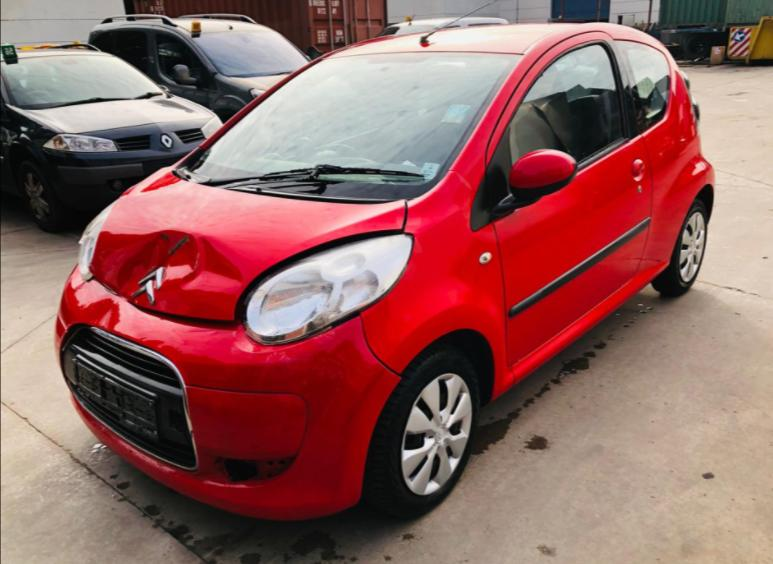Broken part: (121, 200, 408, 331), (356, 313, 401, 380), (167, 234, 190, 257)
Dent: (88, 224, 246, 321), (75, 291, 126, 333)
Missing part: (76, 359, 154, 434), (216, 459, 289, 480)
